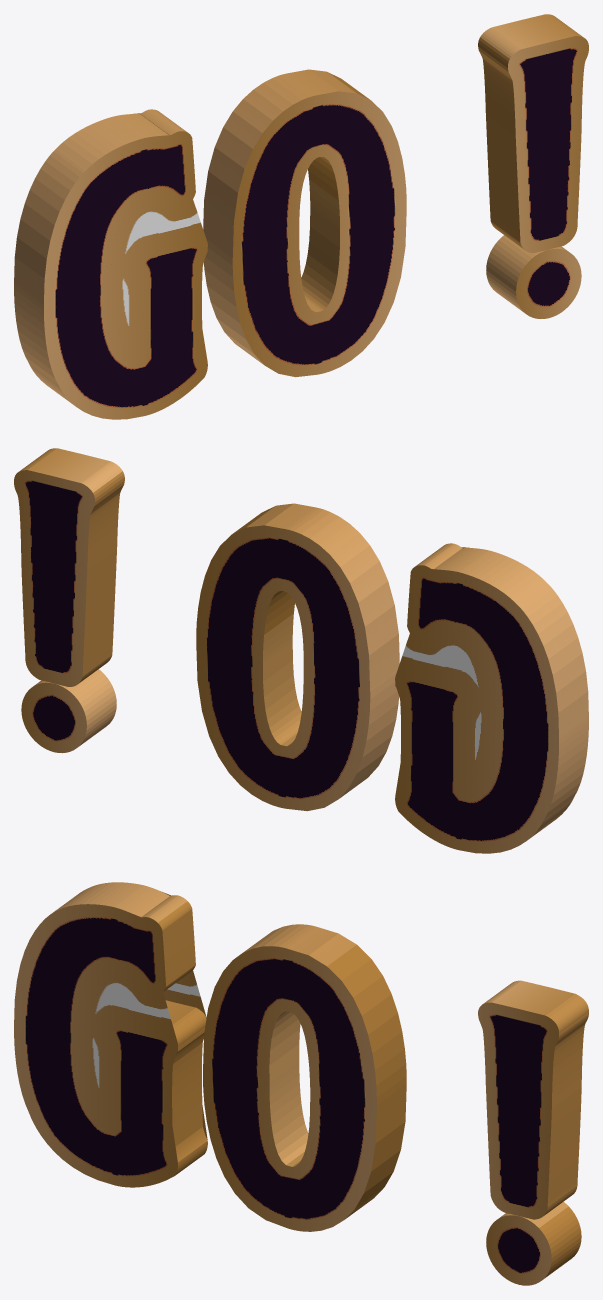
3 renders of one model, top to bottom at view 1: azimuth 30°, elevation 25°; view 2: azimuth 150°, elevation 25°; view 3: azimuth 330°, elevation 25°, orthographic.
Visible parts, largest first — view 1: Go; view 2: Go; view 3: Go.
Boxes of the visible parts, left/top/right/bottom form: Go: left=14, top=14, right=588, bottom=419; Go: left=14, top=448, right=588, bottom=853; Go: left=14, top=882, right=588, bottom=1285.
Bounding box in the file's own units: 211 × 103 × 20.01.
